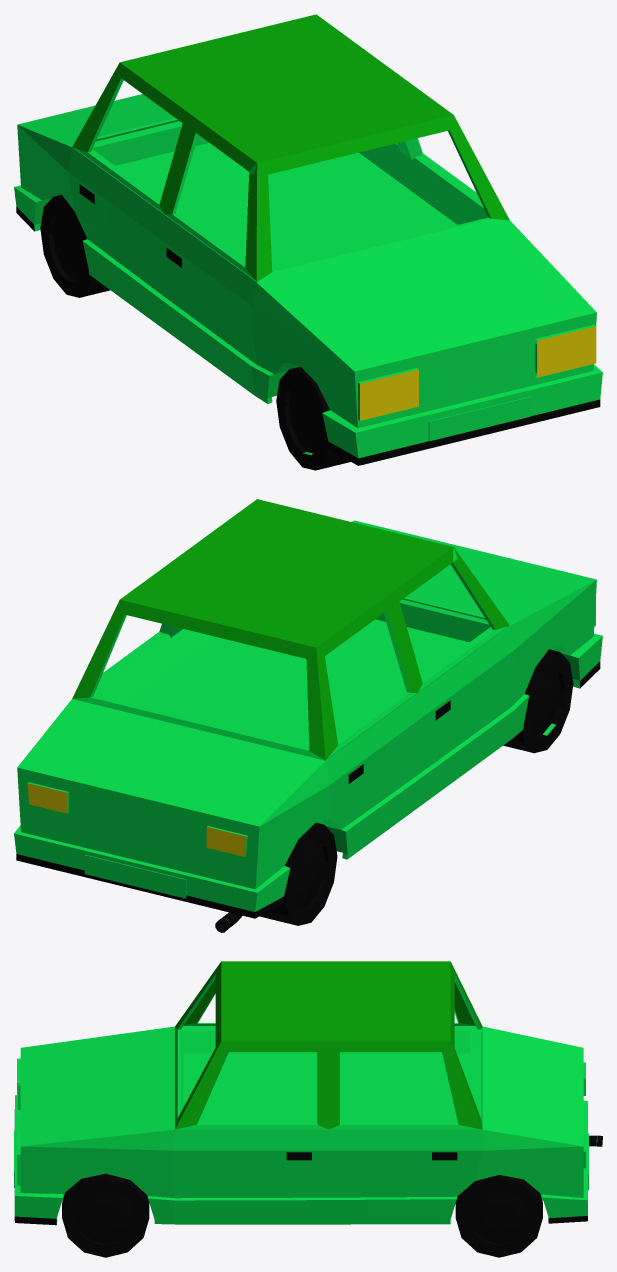
Rendered from Rare Green.fbx.
3 renders of one model, top to bottom at view 1: azimuth 30°, elevation 25°; view 2: azimuth 150°, elevation 25°; view 3: azimuth 270°, elevation 25°, orthographic. The views are drawn at different scales.
Visible parts, largest first — view 1: RareSkin.001; view 2: RareSkin.001; view 3: RareSkin.001.
Boxes of the visible parts, left/top/right/bottom form: RareSkin.001: left=14, top=14, right=602, bottom=470; RareSkin.001: left=14, top=499, right=602, bottom=932; RareSkin.001: left=14, top=961, right=602, bottom=1257.
Size of the model in its own units: 165 by 145 by 375.
